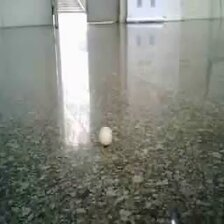w: (98, 126, 114, 147)
